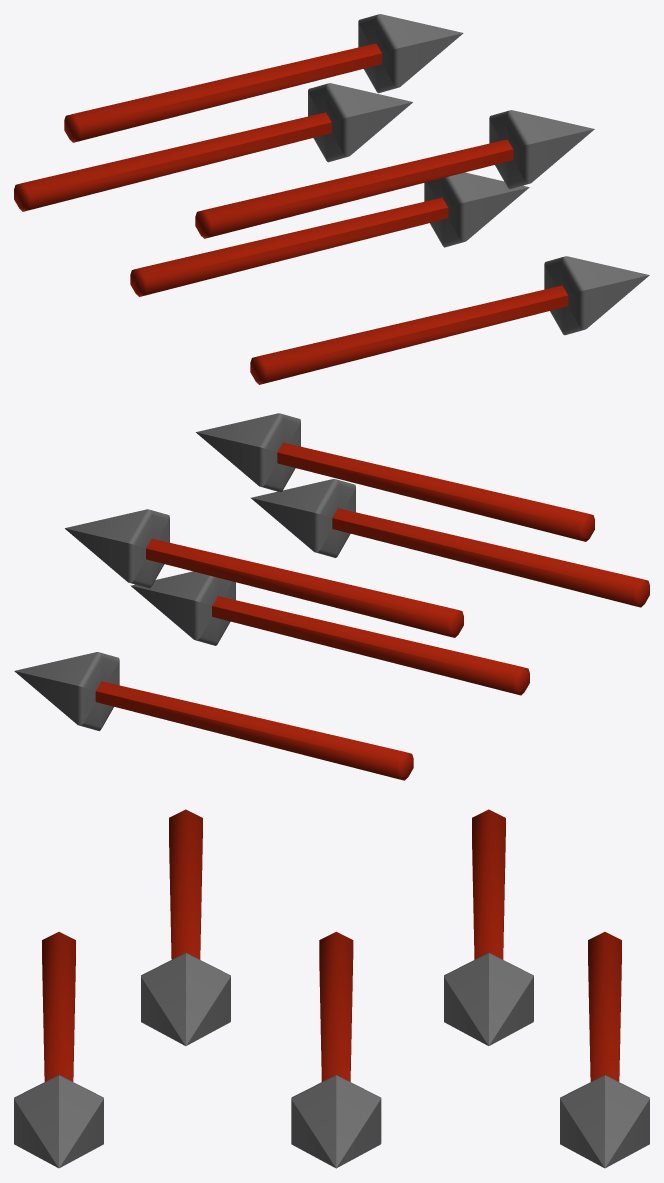
Rendered from ArrowProjectile.glb.
3 renders of one model, top to bottom at view 1: azimuth 30°, elevation 25°; view 2: azimuth 150°, elevation 25°; view 3: azimuth 270°, elevation 25°, orthographic. The views are drawn at different scales.
Parts seen in each view (by area): view 1: Arrow (×5); view 2: Arrow (×5); view 3: Arrow (×5).
Boxes of the visible parts, left/top/right/bottom form: Arrow (×5): left=14, top=14, right=649, bottom=384; Arrow (×5): left=14, top=413, right=649, bottom=780; Arrow (×5): left=14, top=809, right=649, bottom=1168.
Bounding box in the file's own units: 0.5613 × 0.2514 × 0.6791.
